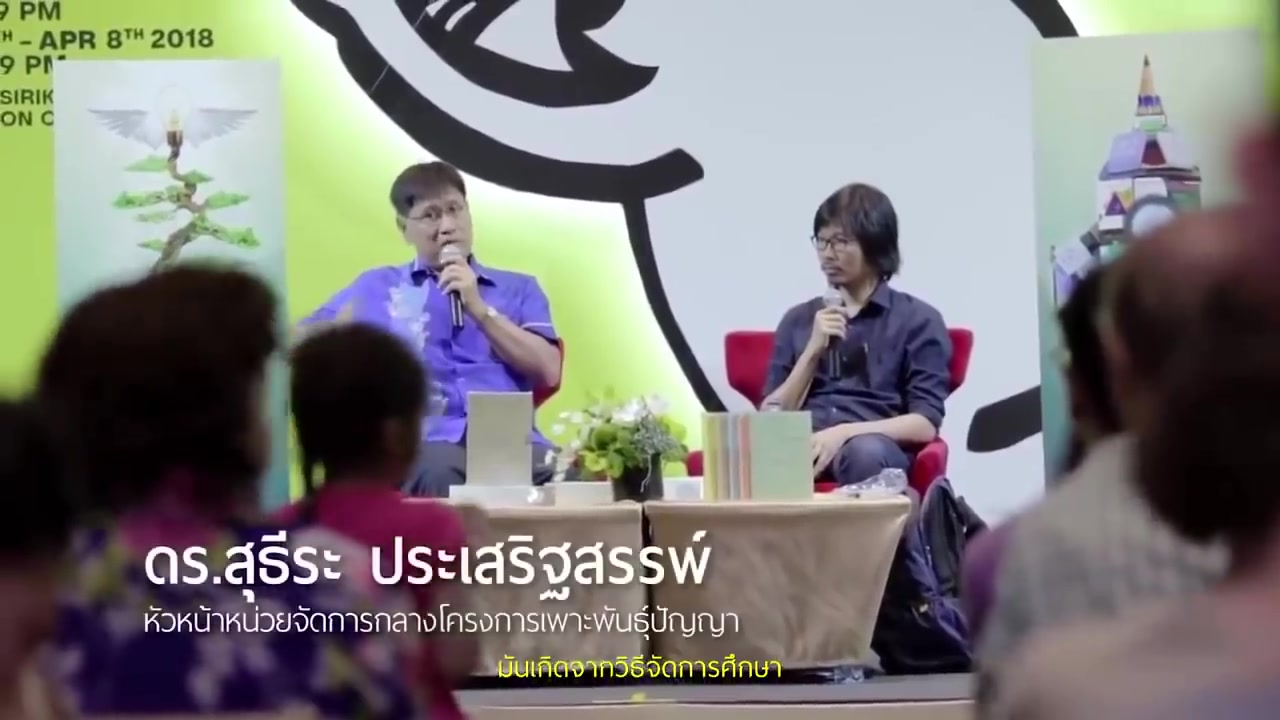text-label: (491, 650, 789, 682)
